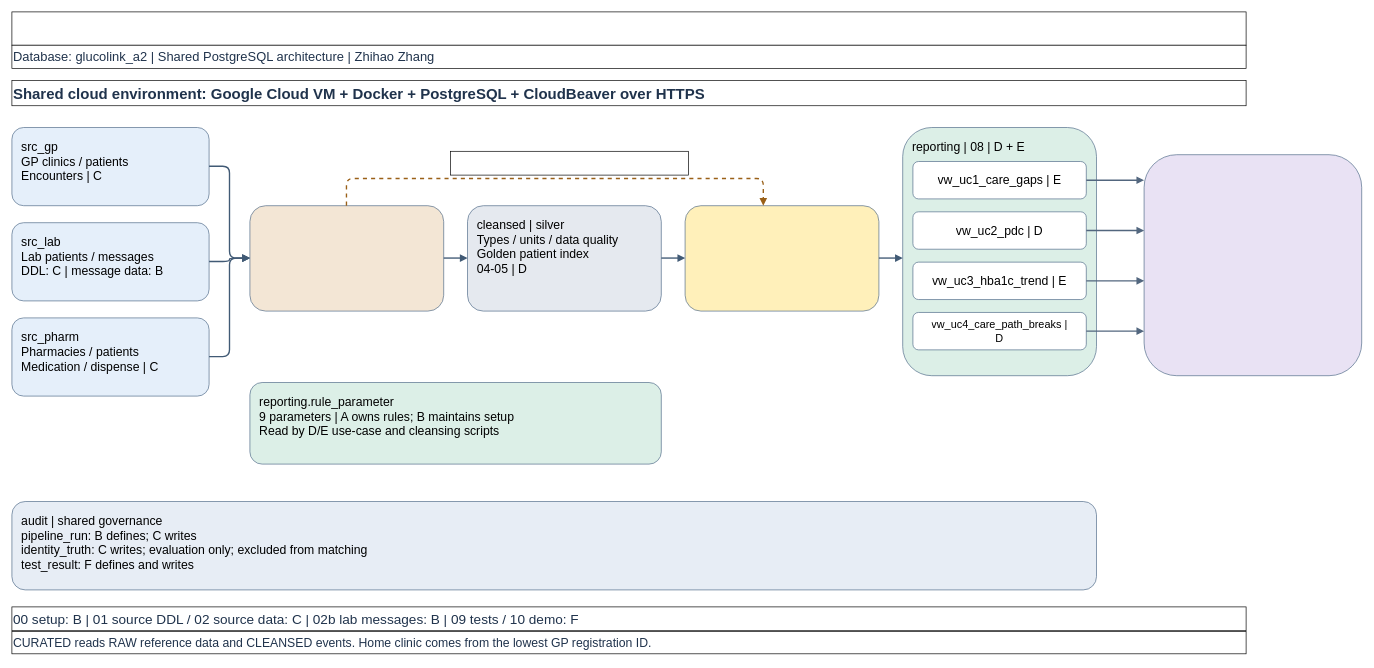
Image size: 1374x668. Some labels were removed from this diagram. Each missing label, with the centre of its shape:
curated | gold 7 dimensions + 3 facts Linked patients only 06-07 | E: point 781,258
Excel charts from exported view results UC1–UC4 | F: point 1252,265
GlucoLink A2 | Architecture v2: point 628,28
raw | bronze 11 unchanged source copies + ingestion provenance 03 | C: point 346,258
References / home clinic: point 569,163
